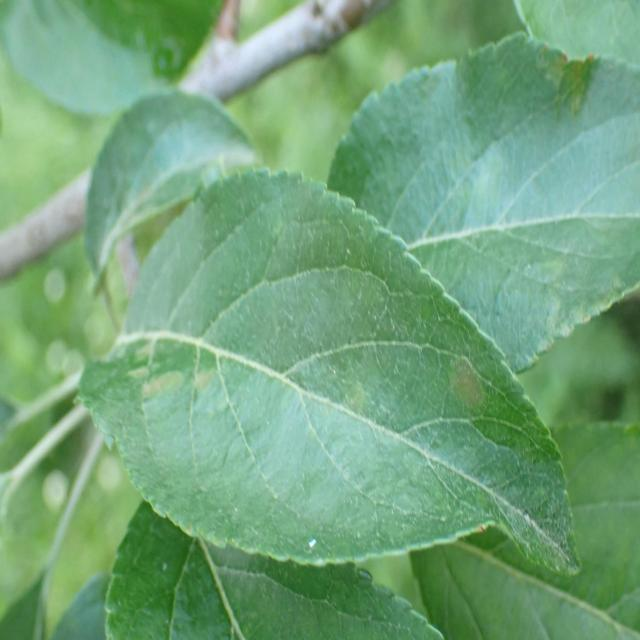scab: (113, 254, 504, 576), (534, 17, 636, 136)
